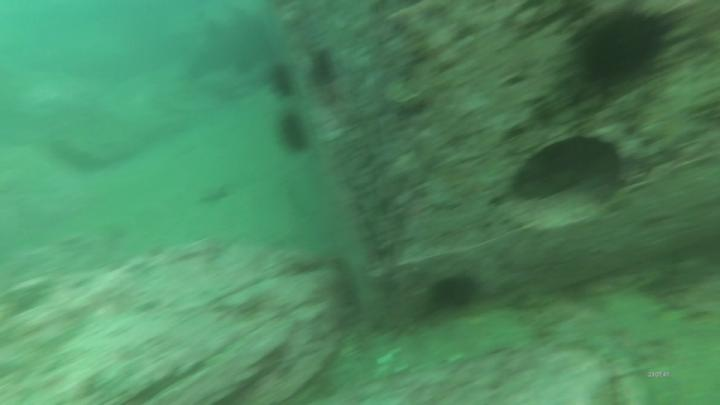echinus: (577, 11, 661, 92), (280, 113, 314, 154), (312, 46, 338, 90), (269, 62, 297, 100)
